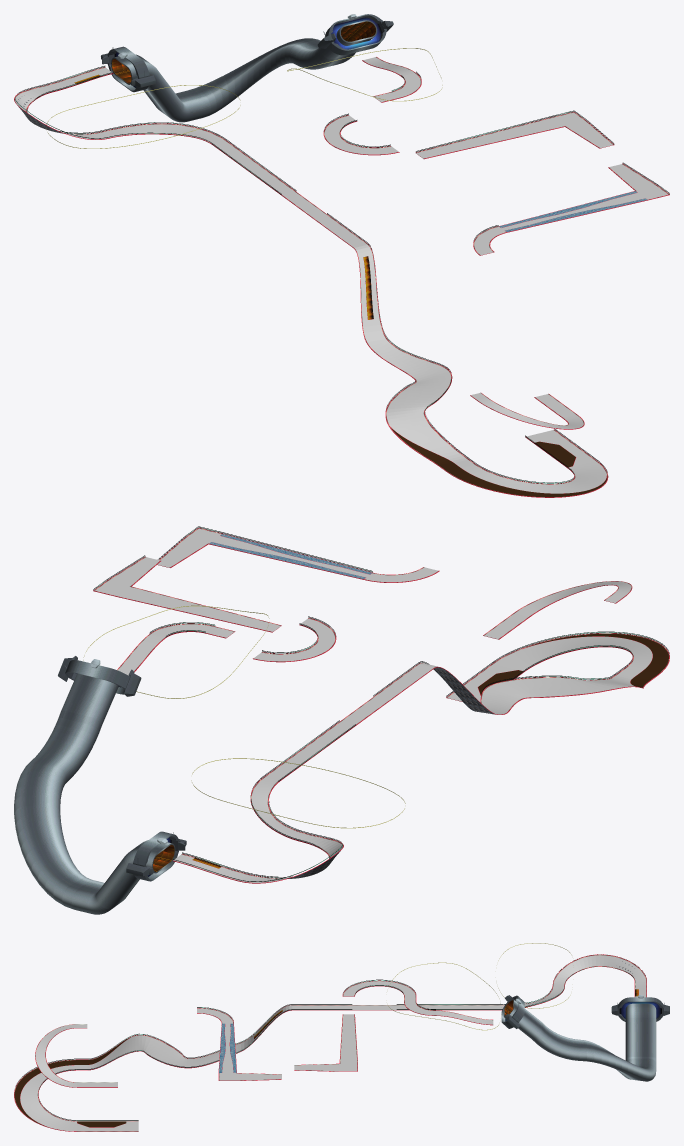
Rendered from SerialGaps.obj.
3 views of the same model, one above another, from view 1: azimuth 30°, elevation 25°; view 2: azimuth 150°, elevation 25°; view 3: azimuth 270°, elevation 25° (orthographic). The views are drawn at different scales.
Size of the model in its own units: 2785 by 1429 by 5445.
